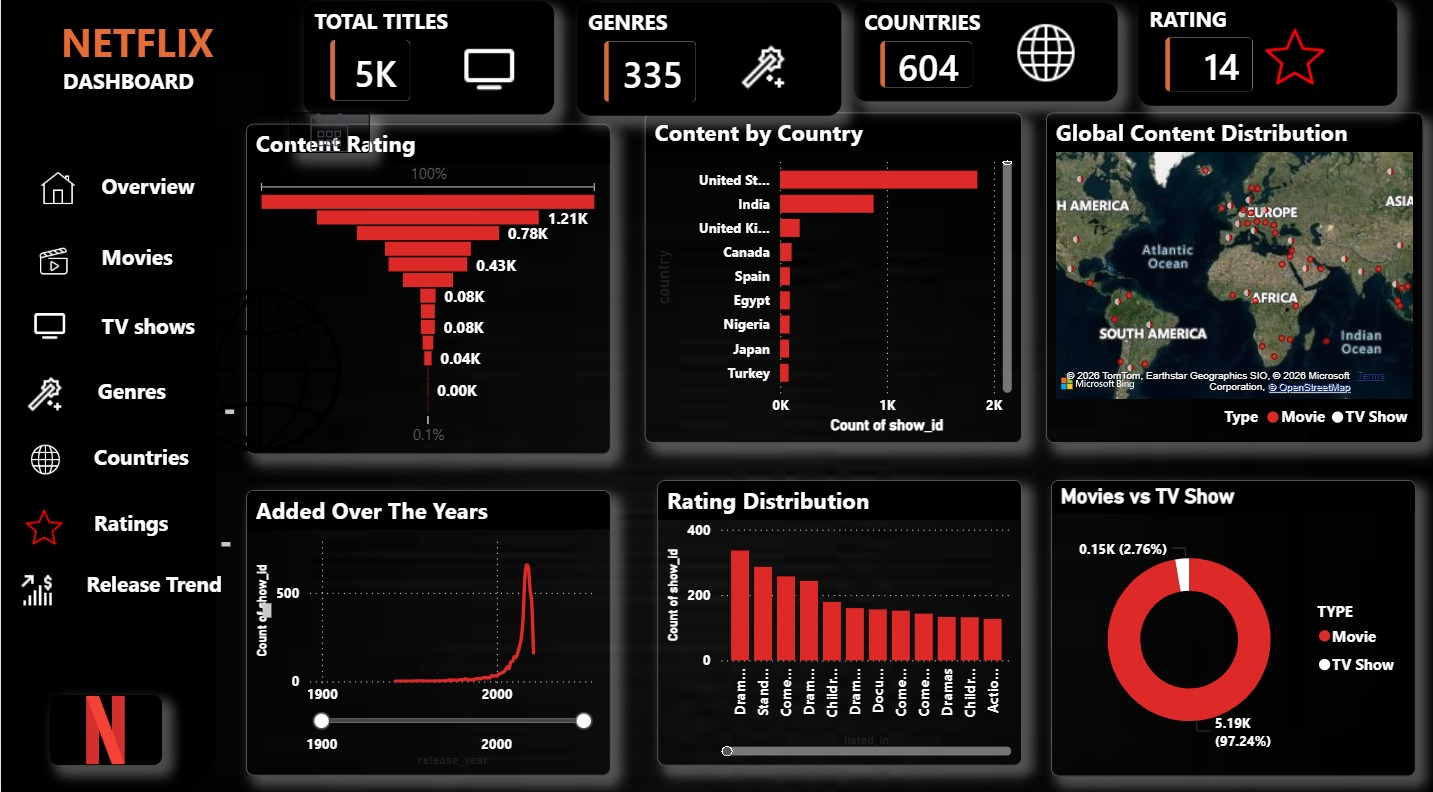

The dashboard page shown, as its layout file describes it:
{"tool":"powerbi","page":{"name":"Page 1","canvas":[1280,720],"ordinal":0},"visuals":[{"type":"shape","box":[0,8.1,191.9,711.6],"z":0},{"type":"donutChart","title":"Movies vs TV Show","fields":{"Category":["netflix_titles.type"],"Y":["CountNonNull(netflix_titles.show_id)"]},"box":[934.9,436,324.4,264],"z":1000},{"type":"columnChart","title":"Rating Distribution","fields":{"Category":["netflix_titles.listed_in"],"Y":["CountNonNull(netflix_titles.show_id)"]},"box":[584.9,436,324.4,254.7],"z":2000},{"type":"lineChart","title":"Added Over The Years","fields":{"Y":["CountNonNull(netflix_titles.show_id)"],"Category":["netflix_titles.release_year"]},"box":[218.6,445.4,324.4,254.7],"z":3000},{"type":"funnel","title":"Content Rating","fields":{"Y":["CountNonNull(netflix_titles.show_id)"],"Category":["netflix_titles.rating"]},"box":[218.6,118.6,324.4,294.2],"z":4000},{"type":"barChart","title":"Content by Country","fields":{"Category":["netflix_titles.country"],"Y":["CountNonNull(netflix_titles.show_id)"]},"box":[573.3,109.3,336,294.2],"z":5000},{"type":"map","title":"Global Content Distribution","fields":{"Category":["netflix_titles.country"],"Series":["netflix_titles.type"],"Y":["Min(netflix_titles.rating)"],"X":["Min(netflix_titles.duration)"]},"box":[930.2,109.3,336,294.2],"z":6000},{"type":"cardVisual","title":"TOTAL TITLES","fields":{"Data":["netflix_titles.TOTAL TITLES"]},"box":[269.8,10.5,223.3,101.2],"z":7000},{"type":"image","box":[81.4,266.3,300,145.3],"z":8000},{"type":"cardVisual","title":"COUNTRIES","fields":{"Data":["netflix_titles.Countries"]},"box":[759.3,11.6,234.9,88.4],"z":9000},{"type":"cardVisual","title":"RATING","fields":{"Data":["netflix_titles.RATINGS"]},"box":[1012.8,8.1,230.2,95.3],"z":10000},{"type":"cardVisual","title":"GENRES","fields":{"Data":["netflix_titles.GENRES"]},"box":[512.8,11.6,234.9,101.2],"z":11000},{"type":"image","box":[1098.8,33.7,107,52.3],"z":12000},{"type":"image","box":[257,109.3,70.9,36],"z":13000},{"type":"image","box":[43,627.9,100,62.8],"z":14000},{"type":"textbox","title":"Overview","box":[84.9,161.6,117.4,26.7],"z":15000},{"type":"textbox","title":"Movies","box":[84.9,224.4,105.8,32.6],"z":16000},{"type":"textbox","title":"TV shows","box":[84.9,286,117.4,29.1],"z":17000},{"type":"textbox","title":"Genres","box":[81.4,344.2,131.4,38.4],"z":18000},{"type":"textbox","title":"Countries","box":[77.9,403.5,122.1,32.6],"z":19000},{"type":"textbox","title":"Ratings","box":[77.9,461.6,131.4,38.4],"z":20000},{"type":"textbox","title":"Release Trend","box":[70.9,516.3,174.4,47.7],"z":21000},{"type":"textbox","title":"DASHBOARD","box":[24.4,67.4,177.9,33.7],"z":22000},{"type":"textbox","title":"NETFLIX","box":[17.4,22.1,207,46.5],"z":23000},{"type":"image","box":[10.5,461.6,57,32.6],"z":24000},{"type":"image","box":[12.8,516.3,38.4,36],"z":25000},{"type":"image","box":[25.6,161.6,50,31.4],"z":26000},{"type":"image","box":[17.4,227.9,58.1,29.1],"z":27000},{"type":"image","box":[17.4,277.9,51.2,37.2],"z":28000},{"type":"image","box":[0,403.5,79.1,30.2],"z":29000},{"type":"image","box":[895.4,26.7,70.9,58.1],"z":30000},{"type":"image","box":[404.7,34.9,59.3,66.3],"z":31000},{"type":"image","box":[7,341.9,65.1,36],"z":32000},{"type":"image","box":[639.5,45.3,77.9,45.3],"z":33000}]}

Visuals, with their boxes in screenshot pixels (x1, y1, x2, y2), scaled from the page's 1280x720 canvas onto the 1433x792 screenshot:
shape: [0,9,215,791]
"Movies vs TV Show" donutChart: [1047,480,1410,770]
"Rating Distribution" columnChart: [655,480,1018,760]
"Added Over The Years" lineChart: [245,490,608,770]
"Content Rating" funnel: [245,130,608,454]
"Content by Country" barChart: [642,120,1018,444]
"Global Content Distribution" map: [1041,120,1418,444]
"TOTAL TITLES" cardVisual: [302,12,552,123]
image: [91,293,427,453]
"COUNTRIES" cardVisual: [850,13,1113,110]
"RATING" cardVisual: [1134,9,1392,114]
"GENRES" cardVisual: [574,13,837,124]
image: [1230,37,1350,95]
image: [288,120,367,160]
image: [48,691,160,760]
"Overview" textbox: [95,178,226,207]
"Movies" textbox: [95,247,213,283]
"TV shows" textbox: [95,315,226,347]
"Genres" textbox: [91,379,238,421]
"Countries" textbox: [87,444,224,480]
"Ratings" textbox: [87,508,234,550]
"Release Trend" textbox: [79,568,275,620]
"DASHBOARD" textbox: [27,74,226,111]
"NETFLIX" textbox: [19,24,251,75]
image: [12,508,76,544]
image: [14,568,57,608]
image: [29,178,85,212]
image: [19,251,85,283]
image: [19,306,77,347]
image: [0,444,89,477]
image: [1002,29,1082,93]
image: [453,38,519,111]
image: [8,376,81,416]
image: [716,50,803,100]
